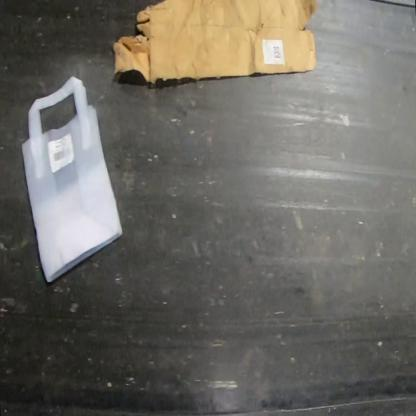cardboard: (113, 0, 318, 84)
soft_plastic: (21, 76, 124, 284)
